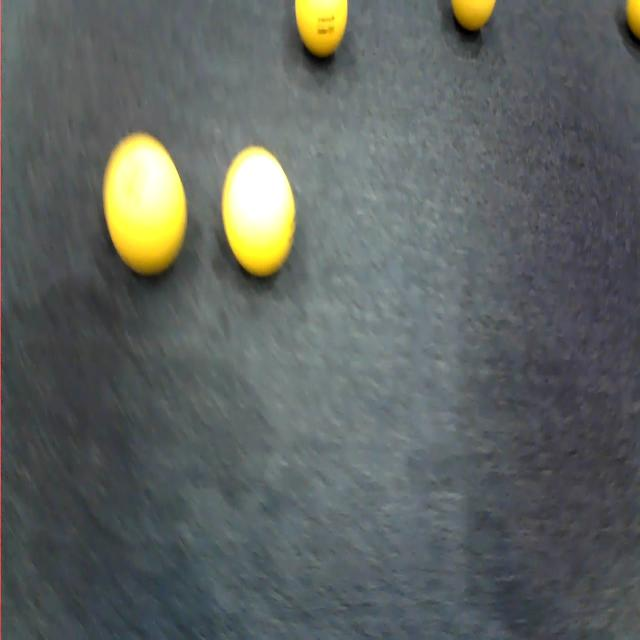fuel: (101, 125, 195, 286), (215, 131, 309, 290), (286, 0, 355, 68), (434, 0, 508, 47), (605, 0, 640, 50)
